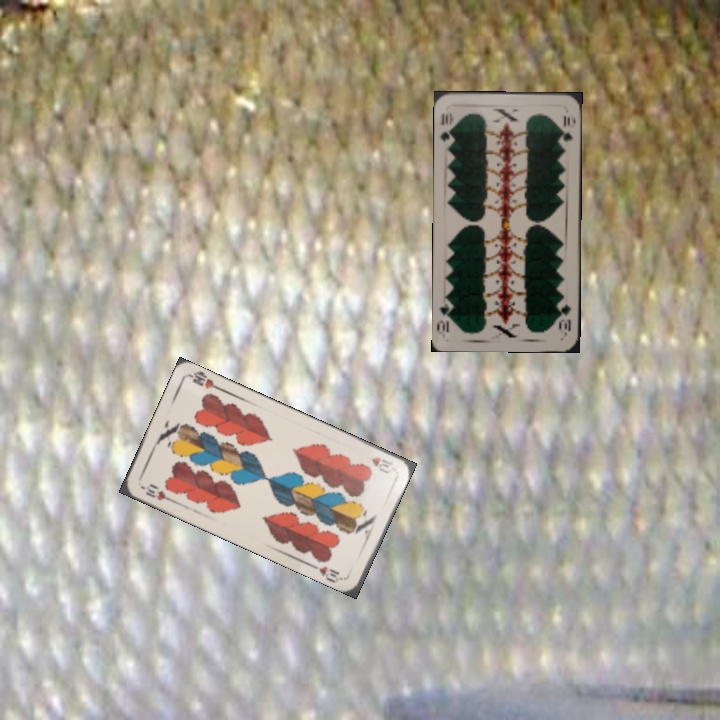G10: (436, 109, 456, 144), (556, 300, 574, 333)
H10: (137, 480, 176, 504), (368, 453, 397, 476)
